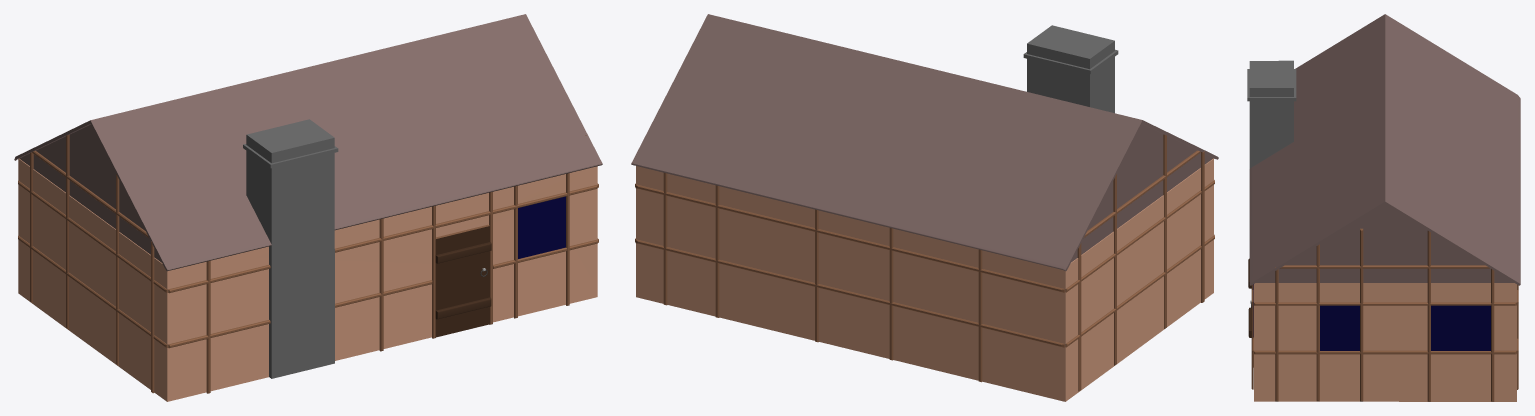
The model's file is VillagerHouseMedWithChimney.fbx.
3 renders of one model, left to right at view 1: azimuth 30°, elevation 25°; view 2: azimuth 150°, elevation 25°; view 3: azimuth 270°, elevation 25°, orthographic. The views are drawn at different scales.
Visible parts, largest first — view 1: VerticalWoodPanel22, Door3; view 2: VerticalWoodPanel22; view 3: VerticalWoodPanel22.
Part boxes in pixels (left/top/right/bottom): VerticalWoodPanel22: left=14, top=14, right=602, bottom=401; Door3: left=435, top=224, right=491, bottom=337; VerticalWoodPanel22: left=631, top=14, right=1218, bottom=401; VerticalWoodPanel22: left=1247, top=14, right=1520, bottom=401.
Bounding box in the file's own units: 10.15 × 5.09 × 6.24.
